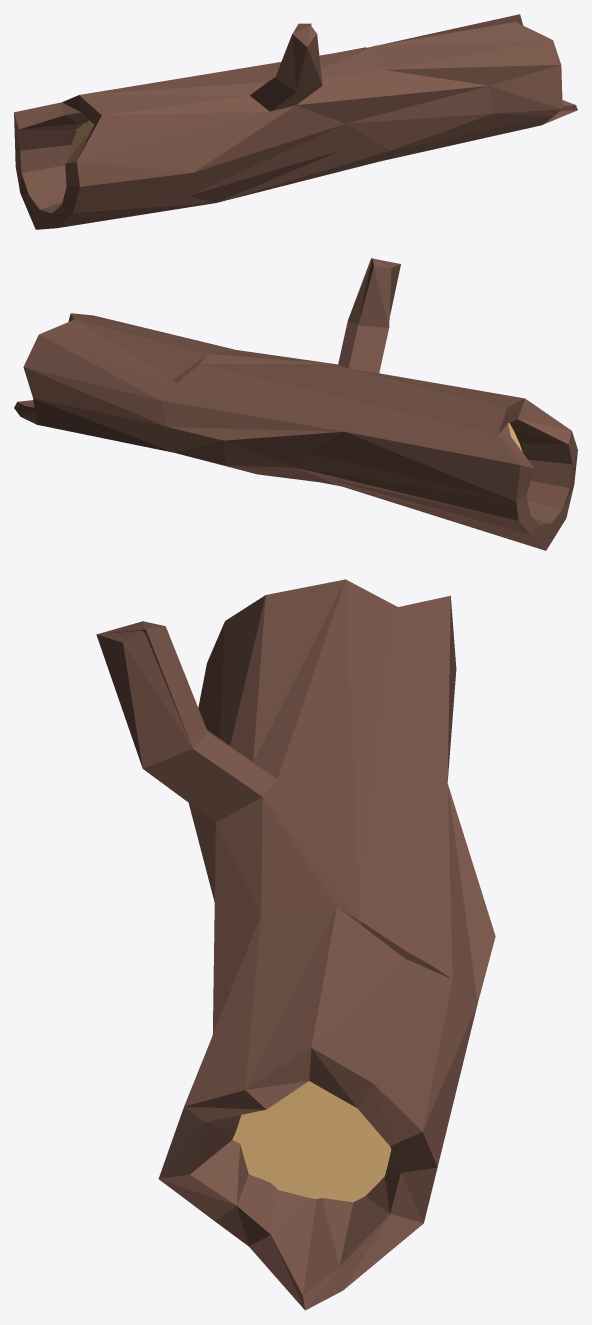
File: stump.obj
3 renders of one model, top to bottom at view 1: azimuth 30°, elevation 25°; view 2: azimuth 150°, elevation 25°; view 3: azimuth 270°, elevation 25°, orthographic. The views are drawn at different scales.
Parts seen in each view (by area): view 1: mesh212839880, mesh323533351; view 2: mesh212839880; view 3: mesh212839880, mesh323533351.
Part boxes in pixels (x1,y1,x2,y2): mesh212839880: (14,14,577,229); mesh323533351: (69,120,93,157); mesh212839880: (14,258,577,550); mesh212839880: (96,579,495,1310); mesh323533351: (232,1081,391,1202).
Bounding box in the file's own units: 3.07 × 1.05 × 0.9976.
